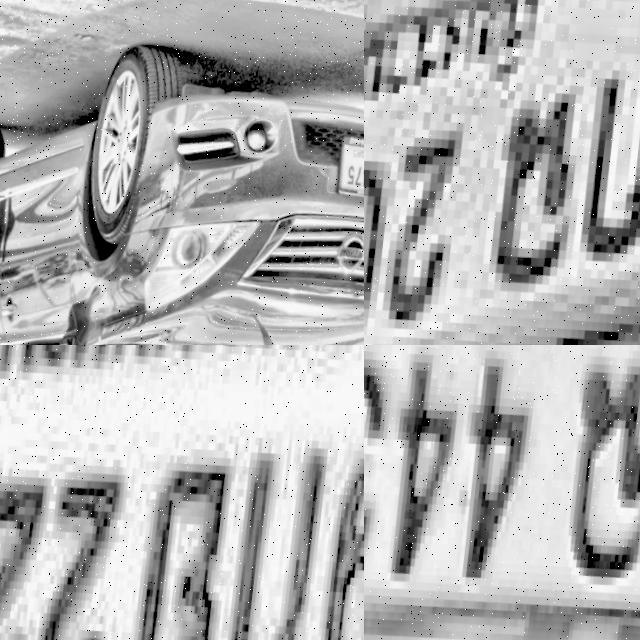license-plate: (0, 345, 364, 640), (364, 0, 640, 345), (364, 345, 640, 640), (327, 125, 364, 224)
